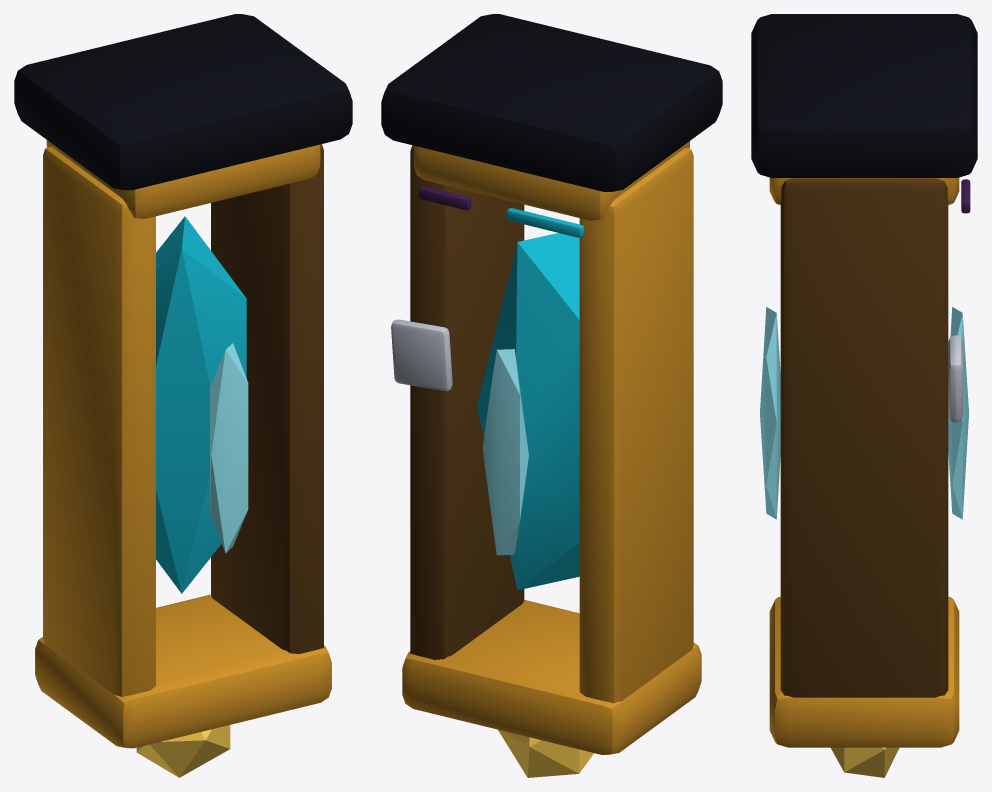
The model's file is prism_beacon.obj.
The picture shows the model from 3 angles, left to right: view 1: azimuth 30°, elevation 25°; view 2: azimuth 150°, elevation 25°; view 3: azimuth 270°, elevation 25°; orthographic projection.
Visible parts, largest first — view 1: PrismBeaconGoal; view 2: PrismBeaconGoal; view 3: PrismBeaconGoal.
Part boxes in pixels (x1,y1,x2,y2): PrismBeaconGoal: (14,14,352,777); PrismBeaconGoal: (381,14,722,777); PrismBeaconGoal: (751,14,977,777).
Bounding box in the file's own units: 0.78 × 2.13 × 0.62.
1 material, 1 textured.
